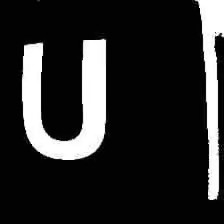LTR_U: (16, 25, 114, 167)
